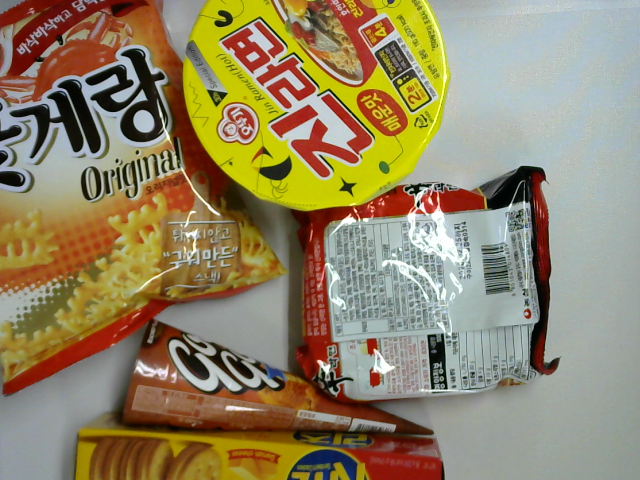Crabrang: (1, 1, 292, 399)
GooGoo_Cone_CVS: (121, 316, 438, 437)
Jinlamyeon_Hot_Taste_Large_Cup: (178, 1, 447, 213)
Ritz_Sand_Cracker: (74, 411, 450, 480)
Sinramen: (294, 167, 563, 404)
